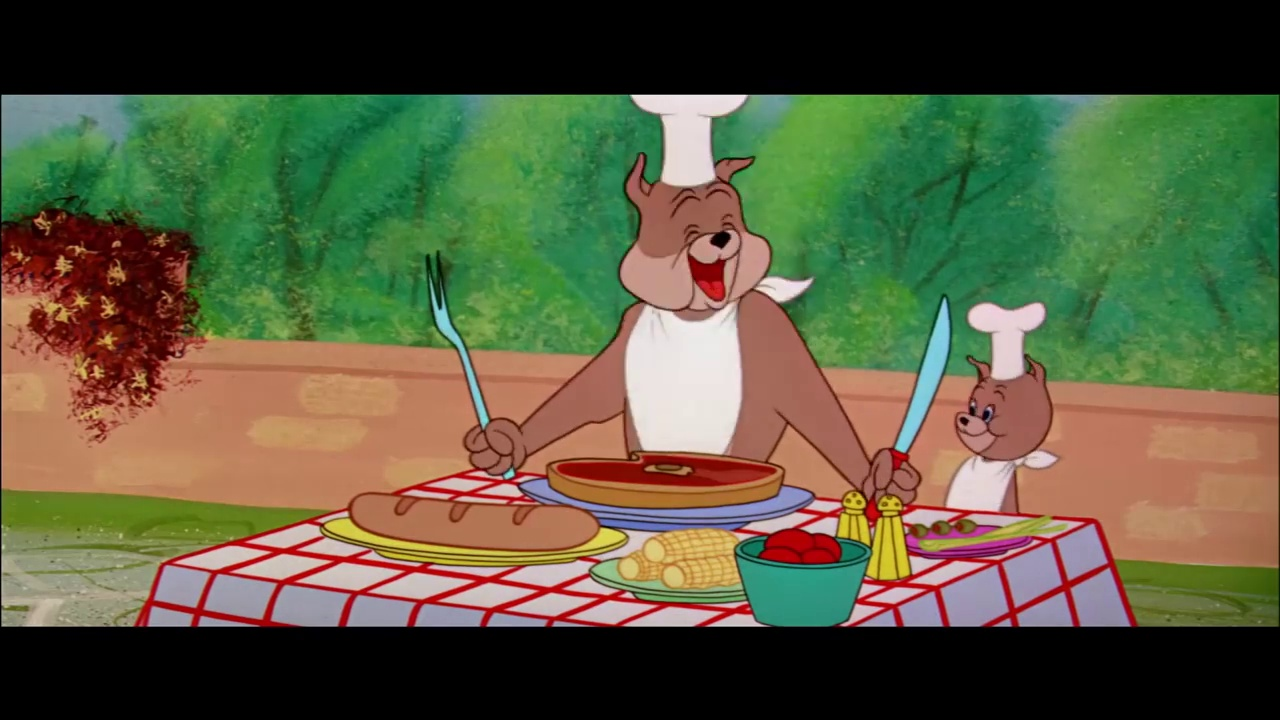spike: (602, 148, 774, 315)
